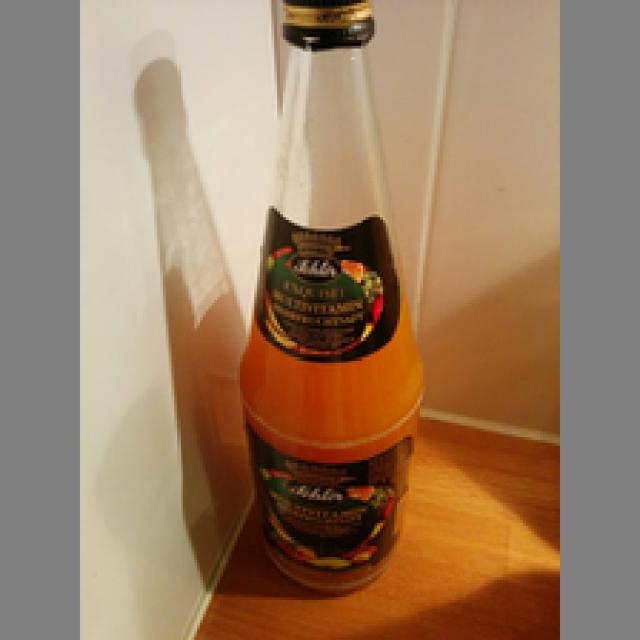groceries: (234, 0, 425, 591)
